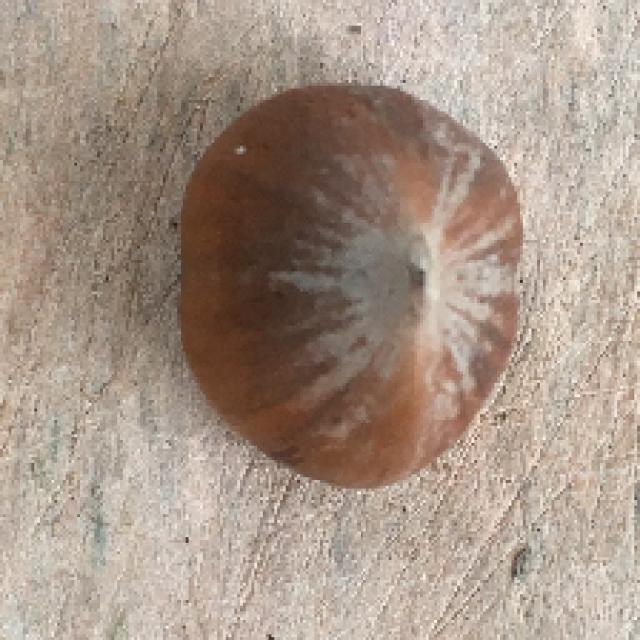damagedHazelnut: (171, 75, 526, 499)
